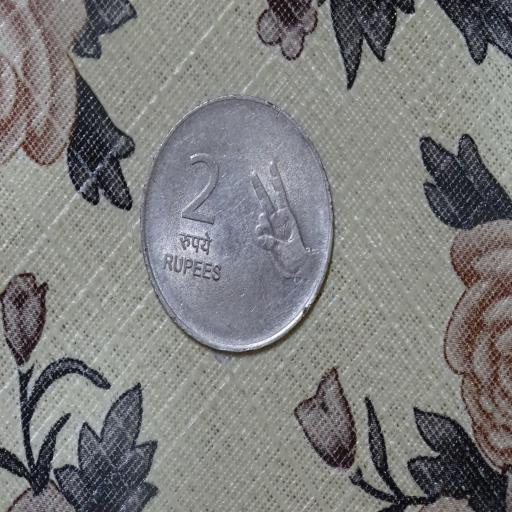rupee2: (140, 96, 337, 350)
